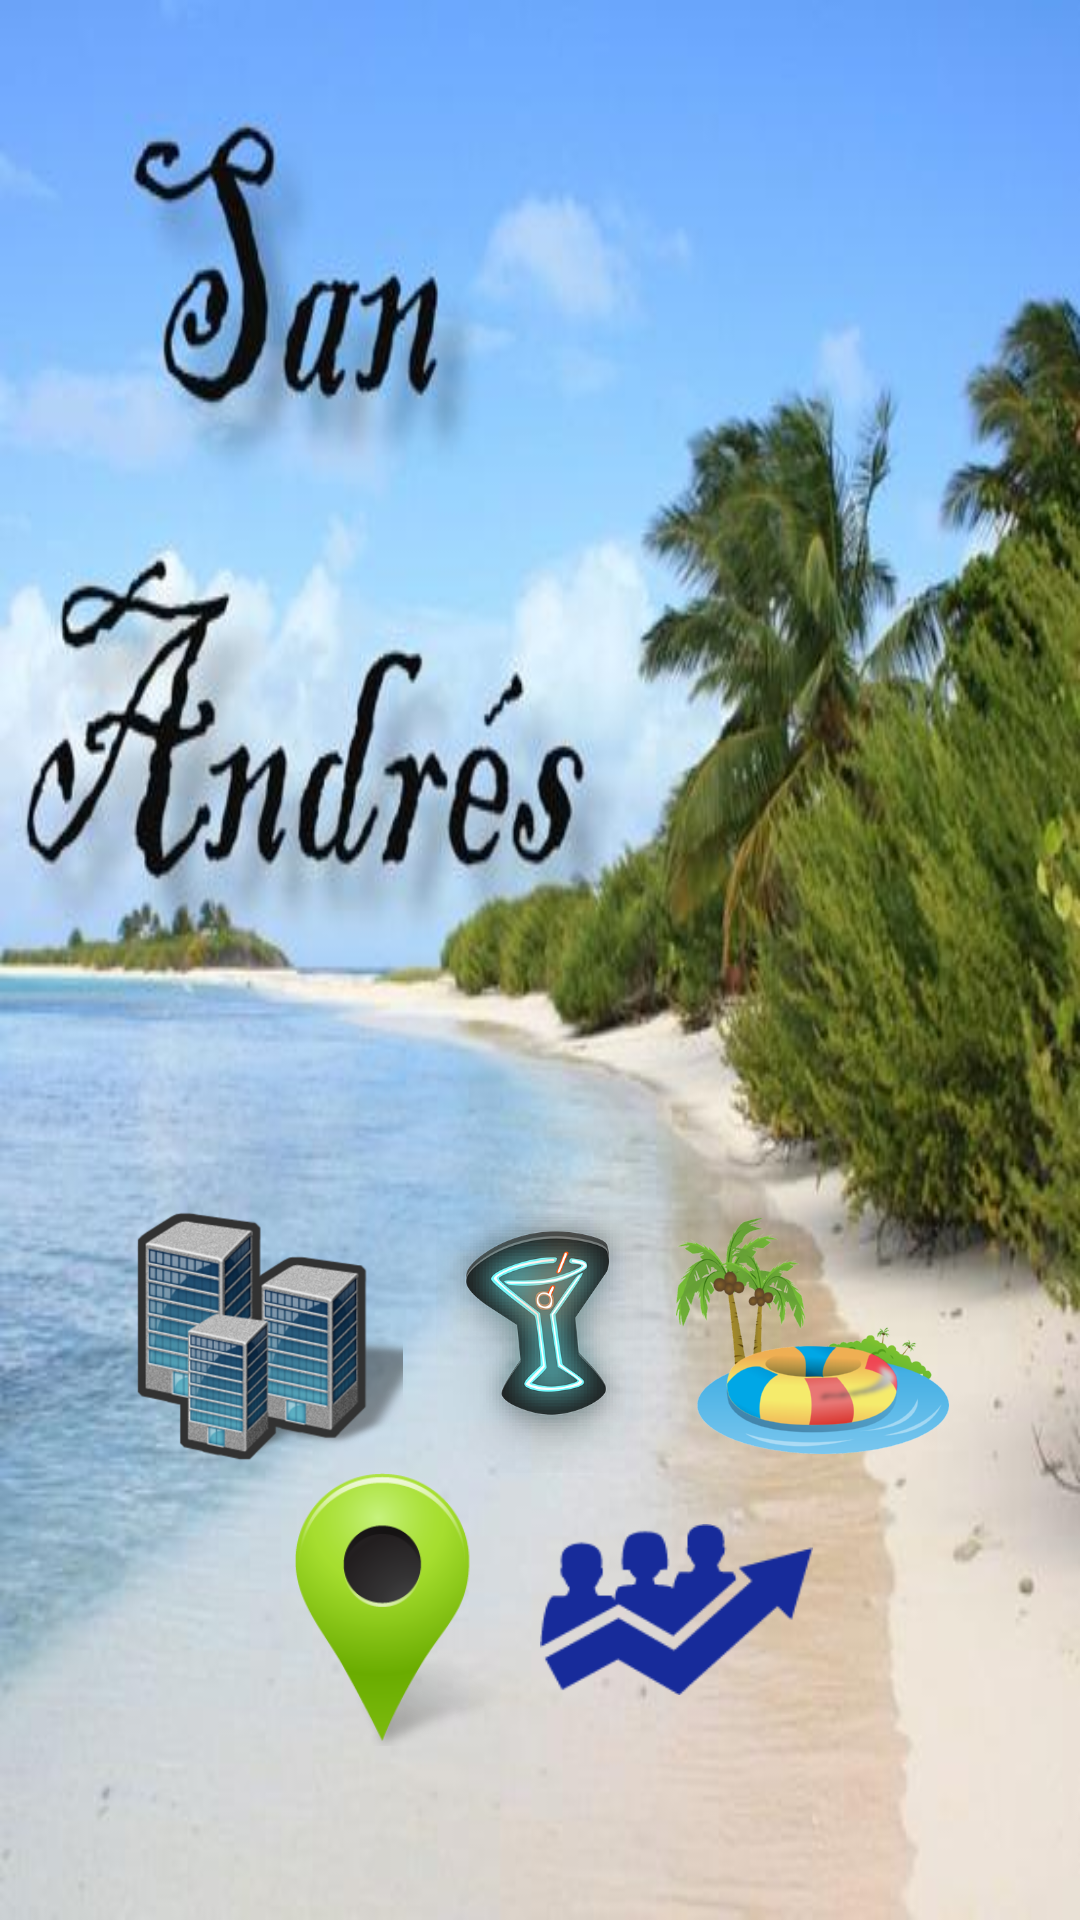

Where to tap for icons on this 1080px x 1920px app screen, as (x,y):
coctel: (539,1336)
hoteles: (266,1336)
sitios: (389,1609)
turismo: (812,1336)
